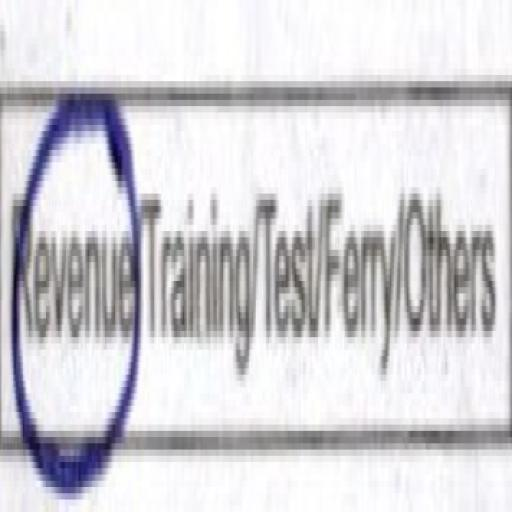check: (0, 6, 142, 512)
